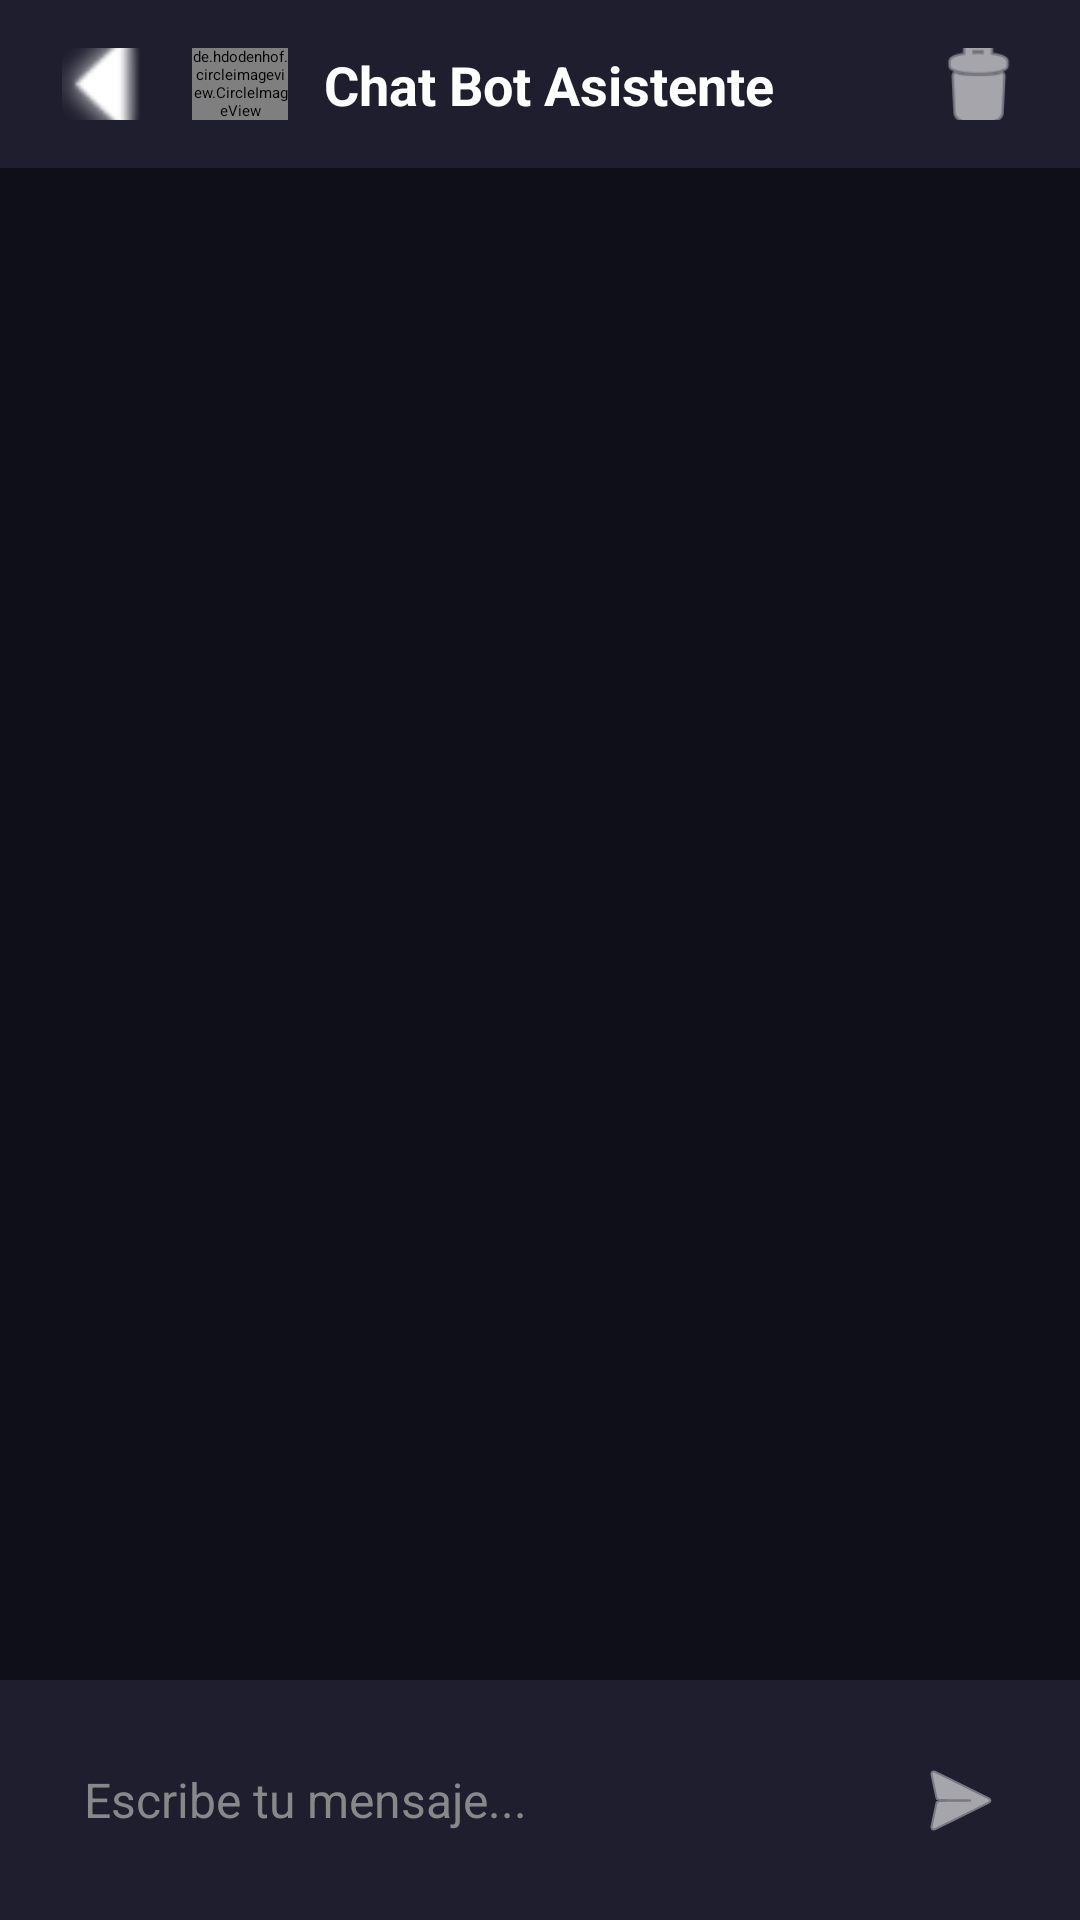

Named icons in this screenshot (1080w x 1920h) and their bounding boxes, (x1, y1, x2, y2):
delete: (948, 48, 1009, 120)
send: (930, 1770, 992, 1831)
